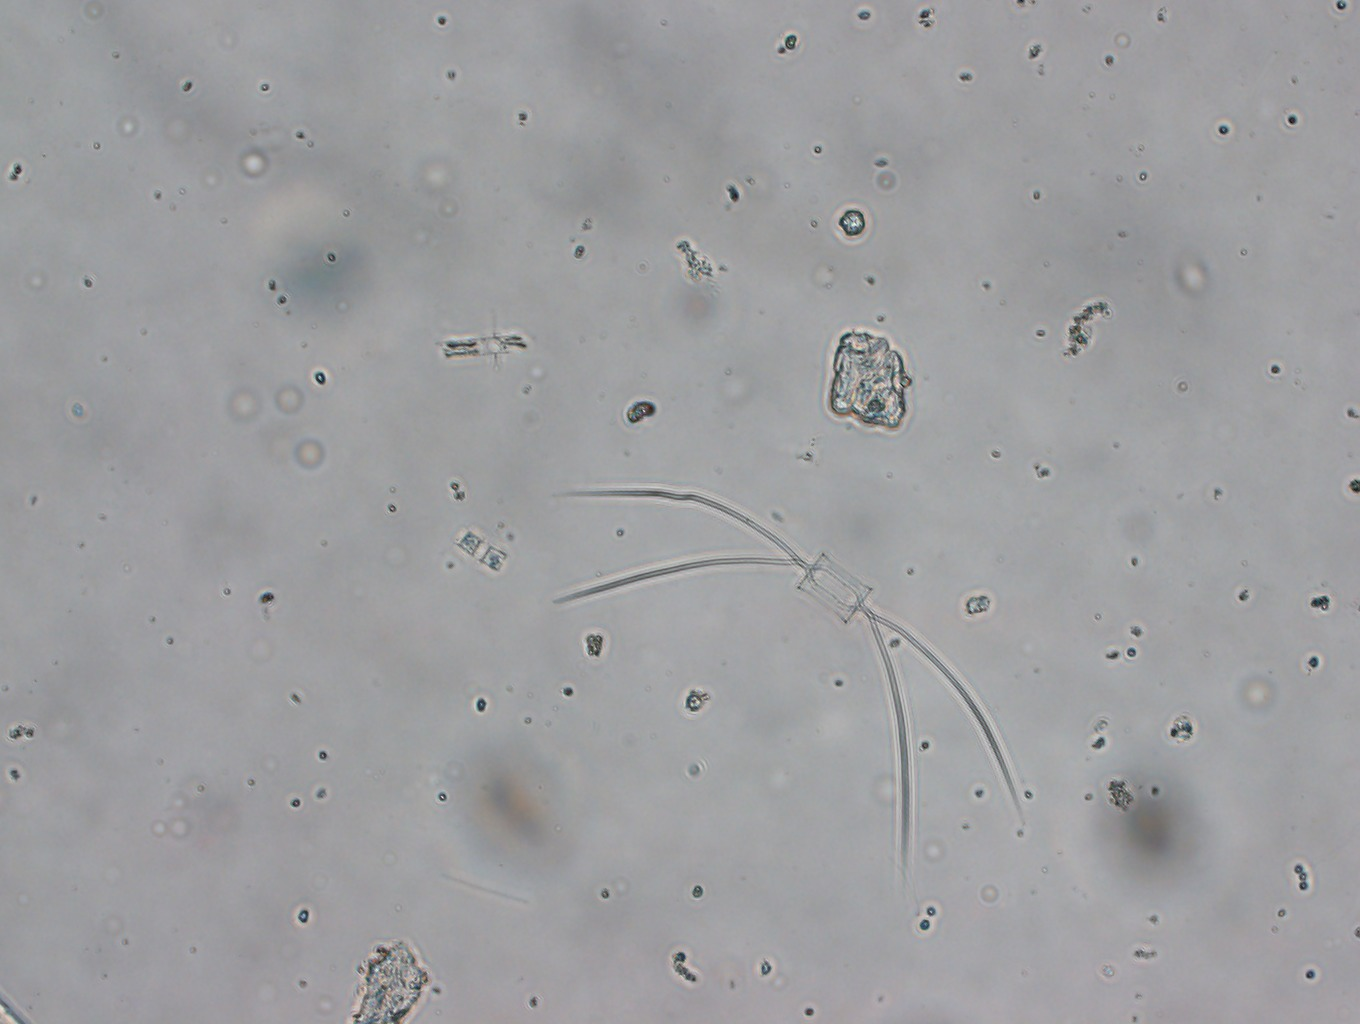chaetoceros: (549, 477, 1037, 893)
